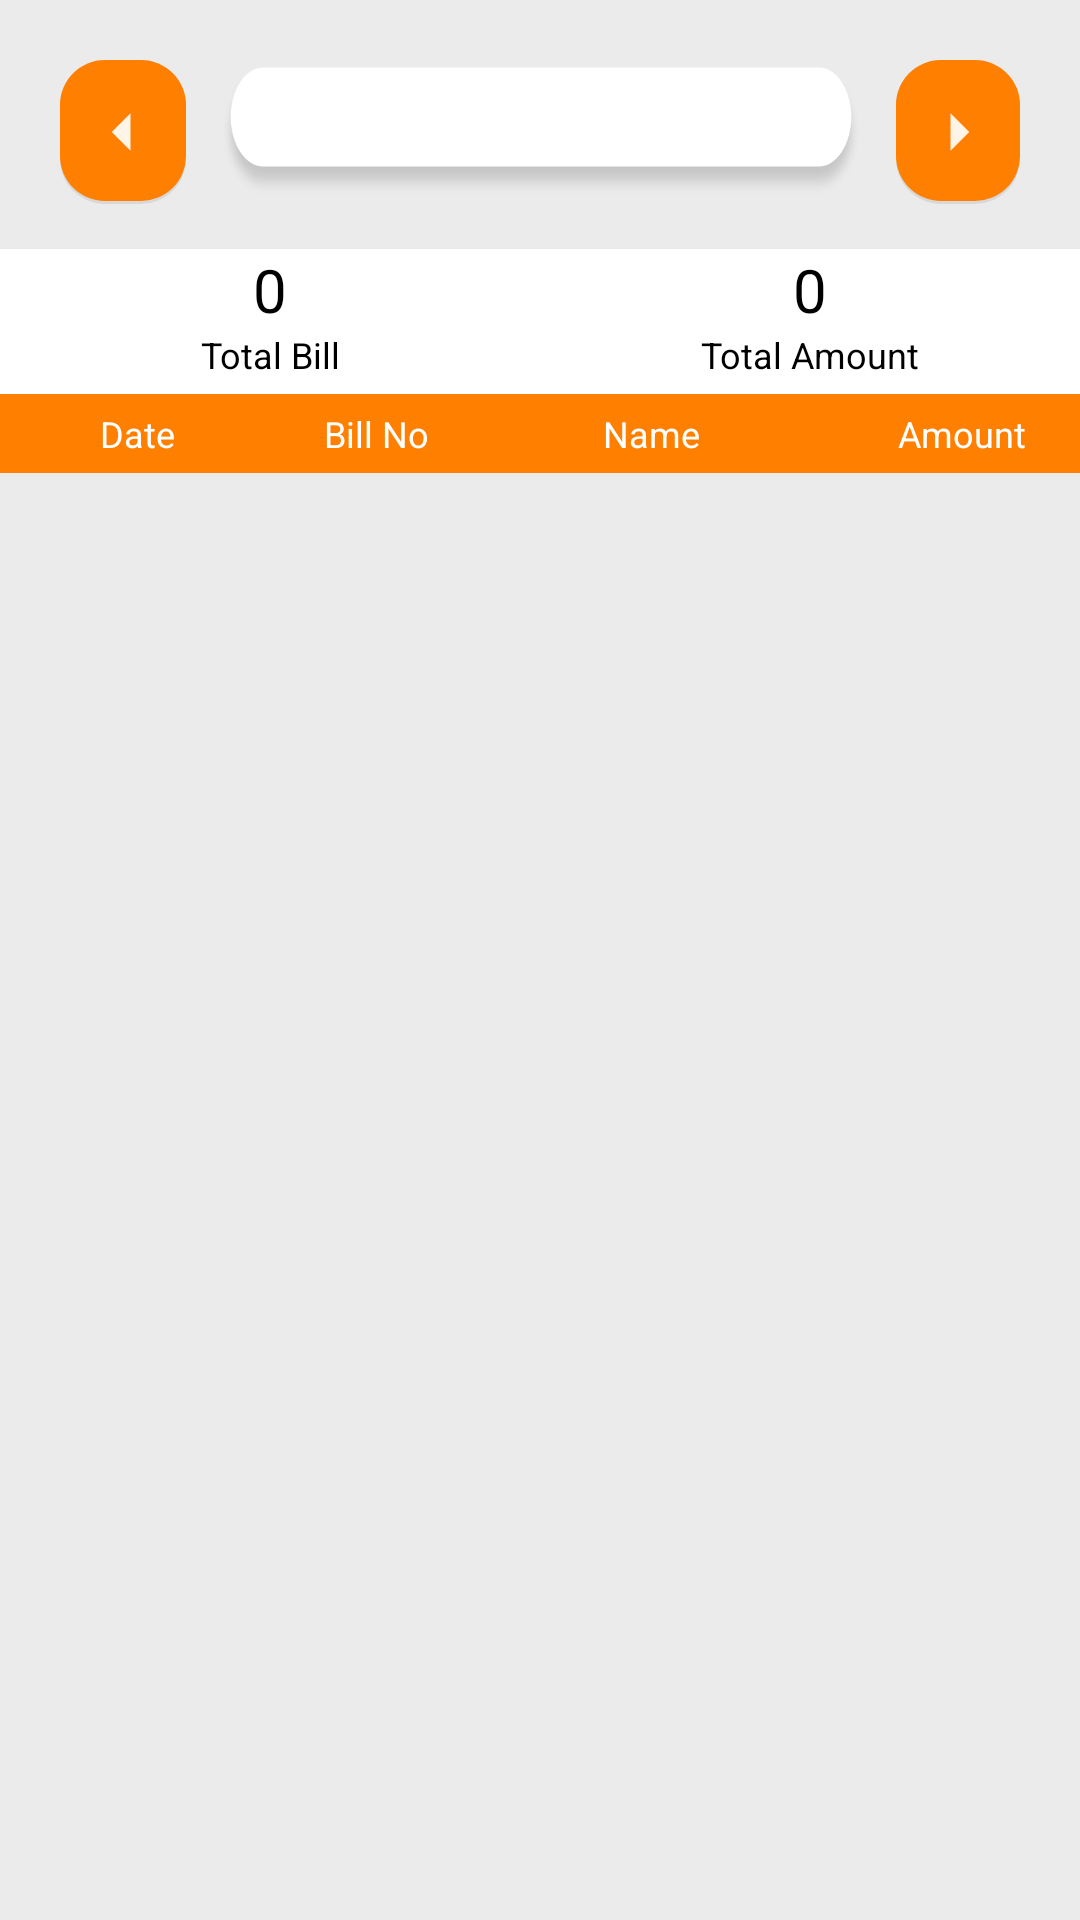

Icons on this 1080 × 1920 Android screen, each with the point to tap as point (x, y):
arrow left: point (123, 130)
arrow right: point (958, 130)
